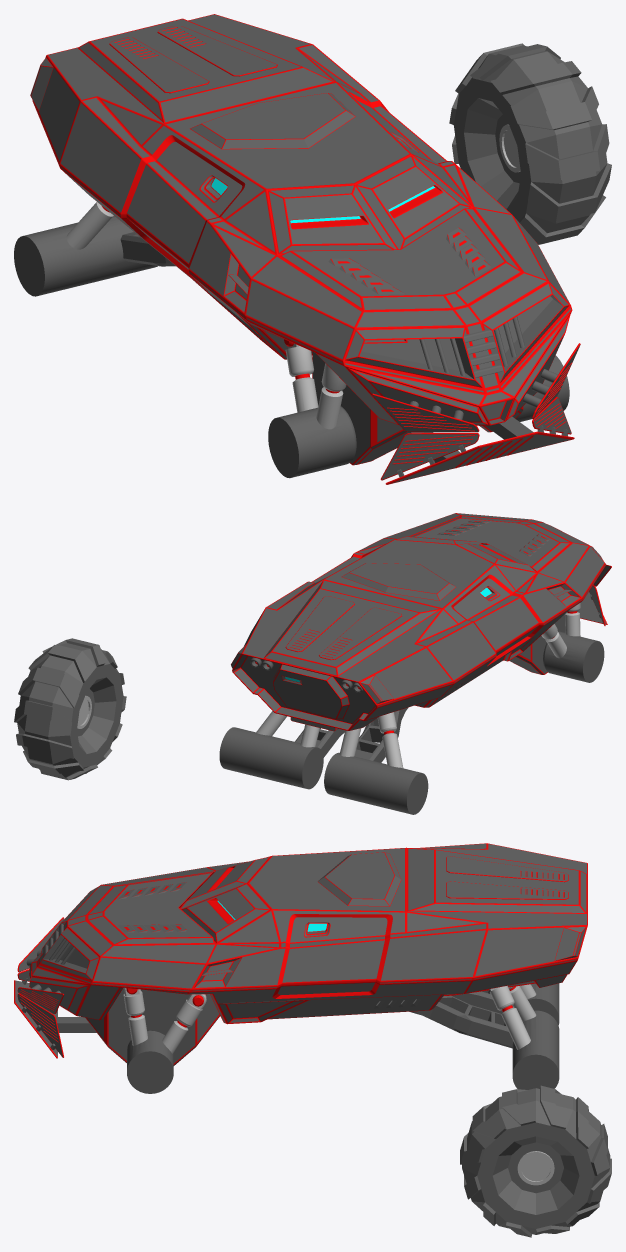
The model's file is MonsterTruck.fbx.
3 views of the same model, one above another, from view 1: azimuth 30°, elevation 25°; view 2: azimuth 150°, elevation 25°; view 3: azimuth 270°, elevation 25° (orthographic). The views are drawn at different scales.
Parts seen in each view (by area): view 1: blackModel, redModel, wheelModel, suspensionModel; view 2: blackModel, wheelModel, redModel, suspensionModel; view 3: blackModel, redModel, wheelModel, suspensionModel.
Part boxes in pixels (x1,y1,x2,y2): blackModel: (14,14,579,483); redModel: (30,14,580,484); wheelModel: (449,43,611,244); suspensionModel: (66,202,346,429); blackModel: (219,513,610,814); wheelModel: (14,638,126,780); redModel: (231,513,611,734); suspensionModel: (256,603,580,768); blackModel: (15,843,586,1093); redModel: (14,843,587,1064); wheelModel: (460,1085,611,1237); suspensionModel: (123,984,536,1053).
Bounding box in the file's own units: 653 × 326 × 806.
